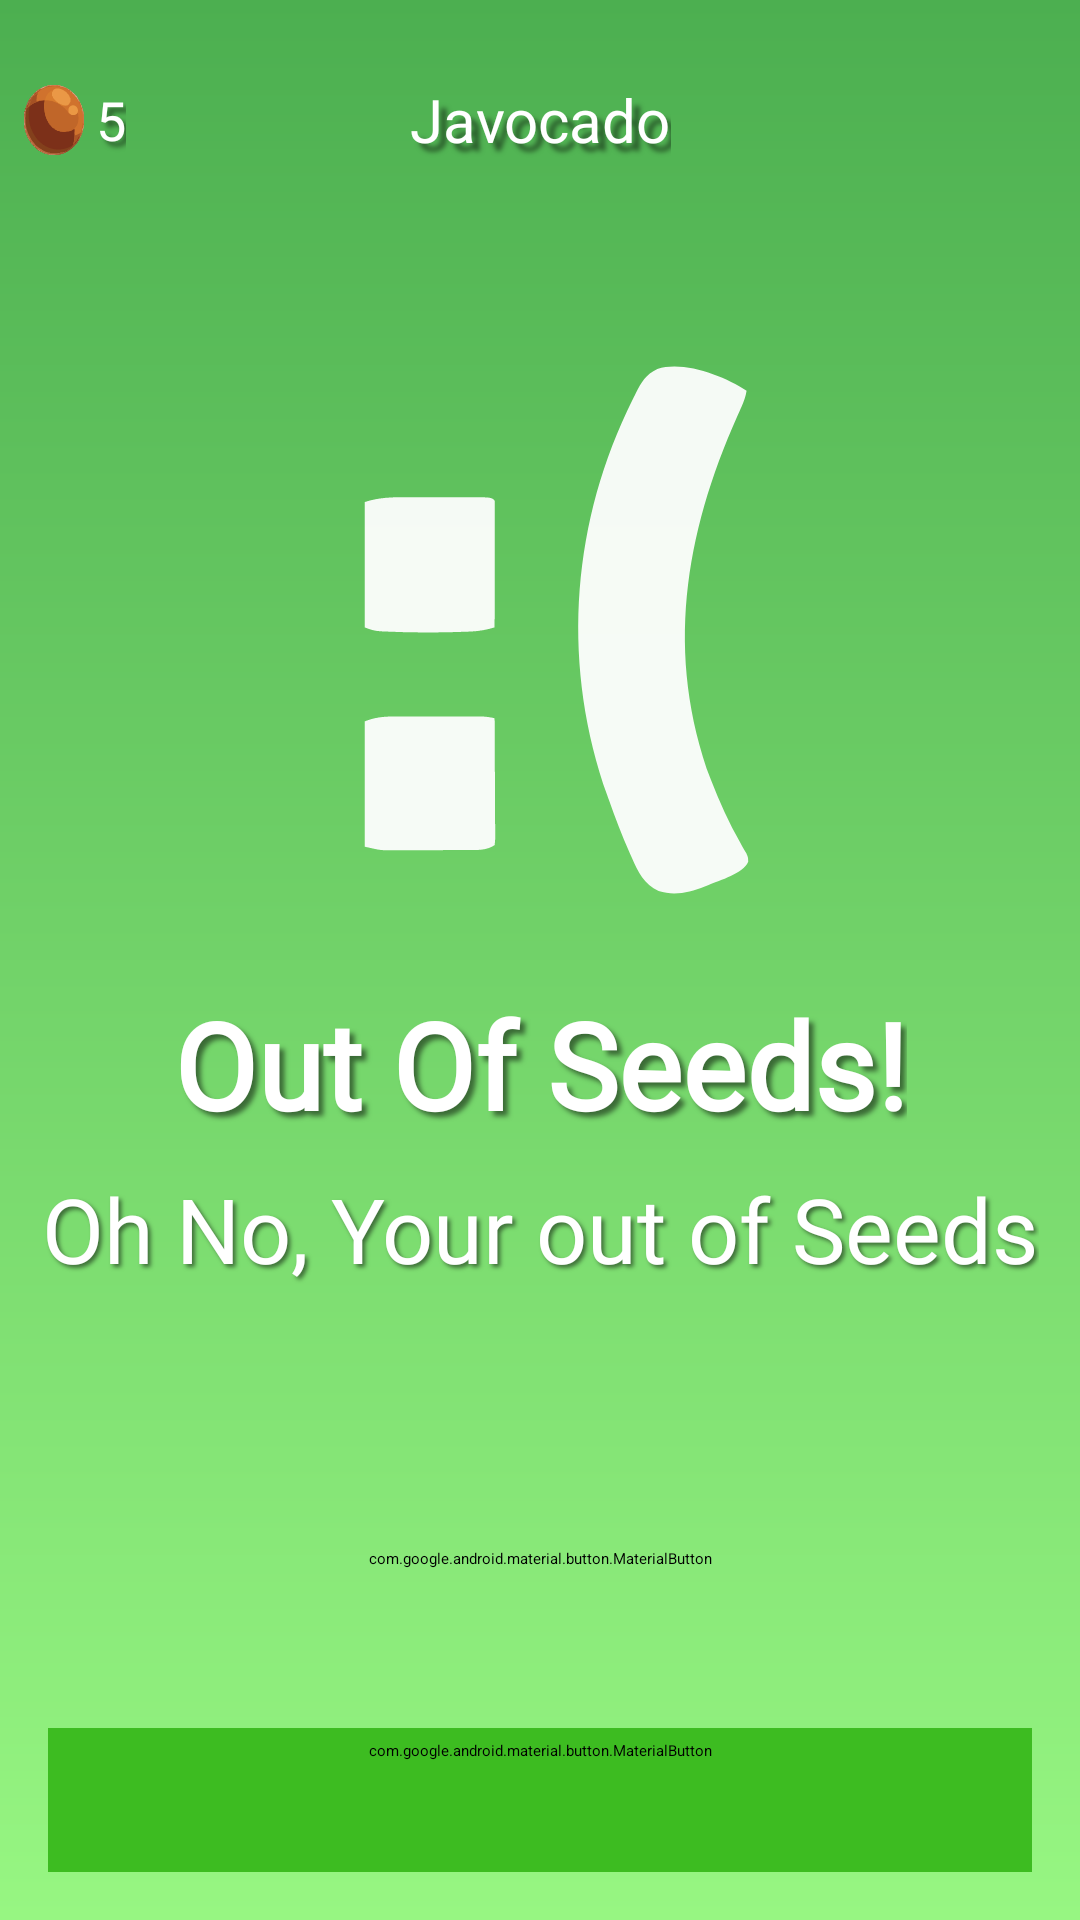

Where to tap for icons on this 1080px×1920px app screen, as point (x, y):
seed: point (54, 120)
